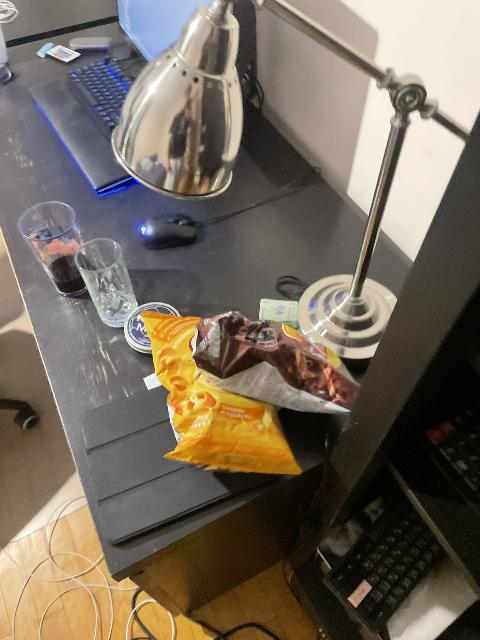Chio Hula Hoops Cheese 70g: (141, 311, 329, 474)
Lays Beef Grilled Ribs 125g: (191, 309, 366, 412)
